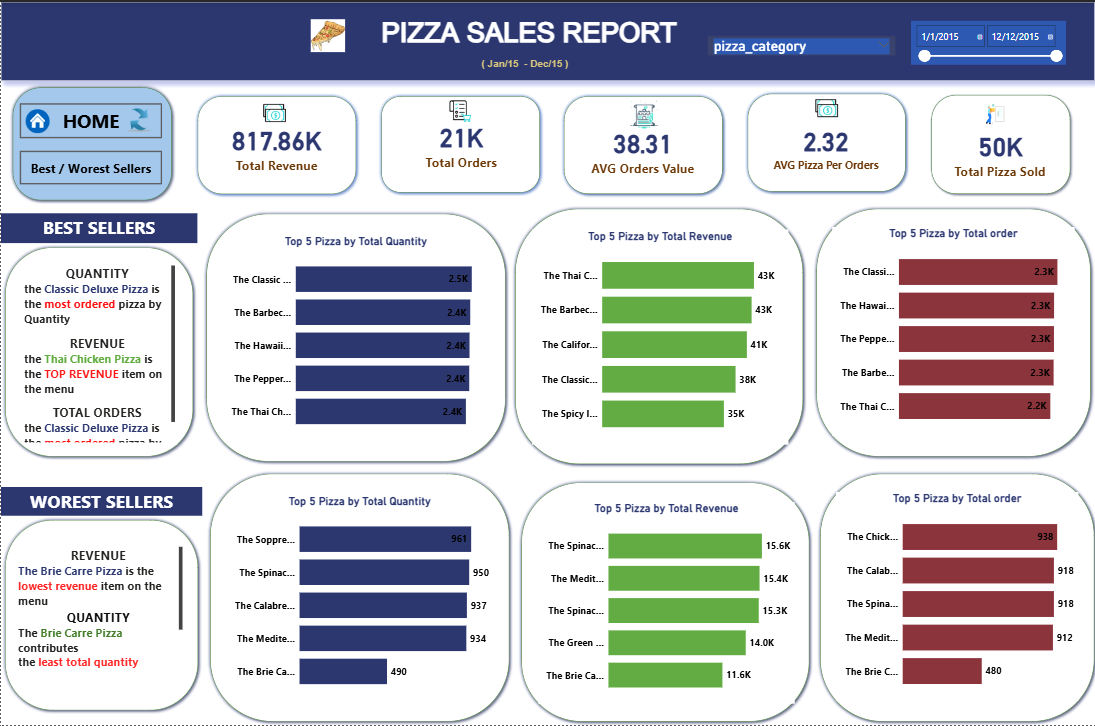

This screenshot's page, from the dashboard's own definition file:
{"tool":"powerbi","page":{"name":"Page 2","canvas":[2350,1550],"ordinal":1},"visuals":[{"type":"group","id":"g1","title":"Group 20","box":[16.1,174.1,358.8,259.8],"z":0,"group":"g9"},{"type":"group","id":"g2","title":"Group 19","box":[16.1,174.1,358.8,259.8],"z":0,"group":"g1"},{"type":"group","id":"g3","title":"Group 18","box":[16.1,174.1,358.8,259.8],"z":0,"group":"g2"},{"type":"shape","box":[16.1,174.1,358.8,259.8],"z":0,"group":"g3"},{"type":"shape","box":[1984.4,190.1,315.3,230],"z":0,"group":"g12"},{"type":"shape","box":[805,192.8,357.3,224.4],"z":0,"group":"g10"},{"type":"shape","box":[1198.1,192.8,357.9,227.3],"z":0,"group":"g13"},{"type":"shape","box":[0,1100.6,431.2,425.8],"z":0,"group":"g21"},{"type":"textbox","box":[0,0,2343.2,168.7],"z":1000},{"type":"shape","box":[1591.2,187.5,356.2,227.6],"z":1000,"group":"g11"},{"type":"card","fields":{"Values":["pizza_sales.Total Orders"]},"box":[839.4,214,290.9,176.7],"z":1000,"group":"g10"},{"type":"card","title":"AVG Orders Value","fields":{"Values":["pizza_sales.AVG Orders Value"]},"box":[1229,215.7,291.6,197.9],"z":1000,"group":"g13"},{"type":"image","box":[246.4,223.2,98.7,60.6],"z":1000,"group":"g9"},{"type":"image","box":[16.1,226.1,125.6,60.6],"z":1000,"group":"g1"},{"type":"actionButton","box":[40,318.4,305,72.2],"z":1000,"group":"g2"},{"type":"shape","box":[411.9,192.8,357.3,227.7],"z":1500,"group":"g7"},{"type":"slicer","title":"pizza_category","fields":{"Values":["pizza_sales.pizza_category"]},"box":[1513.1,72.3,404.4,42.8],"z":2000},{"type":"card","fields":{"Values":["pizza_sales.Total Revenue"]},"box":[446.3,229.5,286.9,157.2],"z":2000,"group":"g7"},{"type":"image","box":[658.8,32.1,83,80.3],"z":3000},{"type":"card","fields":{"Values":["pizza_sales.AVG Pizza Per Orders"]},"box":[1644.1,232.7,246.4,150],"z":3000,"group":"g11"},{"type":"slicer","fields":{"Values":["pizza_sales.order_date"]},"box":[1949.6,40.2,332.1,93.7],"z":4000},{"type":"card","fields":{"Values":["pizza_sales.Total Pizza Sold"]},"box":[2022.5,222.2,237.4,197.8],"z":4000,"group":"g12"},{"type":"group","id":"g4","title":"Group 7","box":[411.9,192.8,356.2,227.6],"z":5000},{"type":"group","id":"g5","title":"Group 9","box":[805,192.8,356.2,227.6],"z":6000},{"type":"group","id":"g6","title":"Group 10","box":[1984.4,190.1,316,230.3],"z":7000},{"type":"group","id":"g7","title":"Group 5","box":[411.9,192.8,356.4,227.4],"z":8000,"group":"g4"},{"type":"group","id":"g8","title":"Group 1","box":[1198.1,192.8,356.2,227.6],"z":8000},{"type":"image","box":[1733.1,198.2,72.3,58.9],"z":8000,"group":"g11"},{"type":"group","id":"g9","title":"Group 21","box":[16.1,174.1,358.8,259.8],"z":9000},{"type":"group","id":"g10","title":"Group 4","box":[805,192.8,356.4,224.1],"z":9000,"group":"g5"},{"type":"group","id":"g11","title":"Group 6","box":[1591.2,187.5,356.2,227.6],"z":10000},{"type":"shape","box":[1093.7,434.3,634.7,565.1],"z":10000,"group":"g15"},{"type":"shape","box":[1738,434.3,605.2,549],"z":10000,"group":"g16"},{"type":"shape","box":[430.4,443.8,658.8,549],"z":10000,"group":"g18"},{"type":"shape","box":[439.2,1001.6,658.8,549],"z":10000,"group":"g17"},{"type":"shape","box":[1746,1001.6,605.2,549],"z":10000,"group":"g20"},{"type":"shape","box":[1106,1020.3,634.7,530.2],"z":10000,"group":"g19"},{"type":"group","id":"g12","title":"Group 2","box":[1984.4,190.1,316,230.3],"z":11000,"group":"g6"},{"type":"textbox","box":[0,452.6,420.4,64.3],"z":11000},{"type":"clusteredBarChart","title":"Top 5 Pizza by Total order","fields":{"Category":["pizza_sales.pizza_name"],"Y":["pizza_sales.Total Orders"]},"box":[1780.9,482.1,519.5,447.2],"z":11000,"group":"g16"},{"type":"clusteredBarChart","title":"Top 5 Pizza by Total Revenue","fields":{"Category":["pizza_sales.pizza_name"],"Y":["pizza_sales.Total Revenue"]},"box":[1138.2,487.4,549,460.6],"z":11000,"group":"g15"},{"type":"clusteredBarChart","title":"Top 5 Pizza by Total Quantity","fields":{"Category":["pizza_sales.pizza_name"],"Y":["pizza_sales.Total Pizza Sold"]},"box":[475.9,497.4,567.7,441.9],"z":11000,"group":"g18"},{"type":"clusteredBarChart","title":"Top 5 Pizza by Total order","fields":{"Category":["pizza_sales.pizza_name"],"Y":["pizza_sales.Total Orders"]},"box":[1788.9,1049.4,519.5,447.2],"z":11000,"group":"g20"},{"type":"clusteredBarChart","title":"Top 5 Pizza by Total Quantity","fields":{"Category":["pizza_sales.pizza_name"],"Y":["pizza_sales.Total Pizza Sold"]},"box":[484.7,1055.2,567.7,441.9],"z":11000,"group":"g17"},{"type":"clusteredBarChart","title":"Top 5 Pizza by Total Revenue","fields":{"Category":["pizza_sales.pizza_name"],"Y":["pizza_sales.Total Revenue"]},"box":[1150.5,1070.1,549,432.2],"z":11000,"group":"g19"},{"type":"group","id":"g13","title":"Group 3","box":[1198.1,192.8,357,227],"z":12000,"group":"g8"},{"type":"group","id":"g14","title":"Group 11","box":[0,516.8,420.4,466],"z":12000},{"type":"image","box":[555.2,206.7,58.5,62.5],"z":12002,"group":"g4"},{"type":"image","box":[1334.7,206.2,88.4,69.6],"z":12005,"group":"g8"},{"type":"image","box":[955.9,204.8,56.6,61.6],"z":12007,"group":"g5"},{"type":"image","box":[2074.7,211.8,107.2,56.9],"z":12009,"group":"g6"},{"type":"group","id":"g15","title":"Group 12","box":[1093.7,434.3,634.7,565.1],"z":13000},{"type":"shape","box":[0,516.8,420.4,466],"z":13000,"group":"g14"},{"type":"group","id":"g16","title":"Group 13","box":[1738,434.3,605.2,549],"z":14000},{"type":"textbox","box":[45.5,558.4,332.1,388.8],"z":14001,"group":"g14"},{"type":"group","id":"g17","title":"Group 8","box":[439.2,1001.6,658.8,549],"z":15000},{"type":"group","id":"g18","title":"Group 8","box":[430.4,443.8,658.8,549],"z":16000},{"type":"group","id":"g19","title":"Group 12","box":[1106,1020.3,634.7,530.2],"z":17000},{"type":"group","id":"g20","title":"Group 13","box":[1746,1001.6,605.2,549],"z":18000},{"type":"actionButton","box":[40,217.4,305,75],"z":18002,"group":"g3"},{"type":"textbox","box":[0,1039.1,431.2,61.6],"z":19000},{"type":"textbox","box":[32.1,1162.2,361.5,297.3],"z":20000,"group":"g21"},{"type":"group","id":"g21","title":"Group 14","box":[0,1100.6,431.2,425.8],"z":20001}]}

Visuals, with their boxes in screenshot pixels (x1, y1, x2, y2), scaled from the page's 2350x1550 canvas onto the 1095x726 screenshot:
"Group 20" group: [left=8, top=82, right=175, bottom=203]
"Group 19" group: [left=8, top=82, right=175, bottom=203]
"Group 18" group: [left=8, top=82, right=175, bottom=203]
shape: [left=8, top=82, right=175, bottom=203]
shape: [left=925, top=89, right=1072, bottom=197]
shape: [left=375, top=90, right=542, bottom=195]
shape: [left=558, top=90, right=725, bottom=197]
shape: [left=0, top=516, right=201, bottom=715]
textbox: [left=0, top=0, right=1092, bottom=79]
shape: [left=741, top=88, right=907, bottom=194]
card - pizza_sales.Total Orders: [left=391, top=100, right=527, bottom=183]
"AVG Orders Value" card: [left=573, top=101, right=709, bottom=194]
image: [left=115, top=105, right=161, bottom=133]
image: [left=8, top=106, right=66, bottom=134]
actionButton: [left=19, top=149, right=161, bottom=183]
shape: [left=192, top=90, right=358, bottom=197]
"pizza_category" slicer: [left=705, top=34, right=893, bottom=54]
card - pizza_sales.Total Revenue: [left=208, top=107, right=342, bottom=181]
image: [left=307, top=15, right=346, bottom=53]
card - pizza_sales.AVG Pizza Per Orders: [left=766, top=109, right=881, bottom=179]
slicer - pizza_sales.order_date: [left=908, top=19, right=1063, bottom=63]
card - pizza_sales.Total Pizza Sold: [left=942, top=104, right=1053, bottom=197]
"Group 7" group: [left=192, top=90, right=358, bottom=197]
"Group 9" group: [left=375, top=90, right=541, bottom=197]
"Group 10" group: [left=925, top=89, right=1072, bottom=197]
"Group 5" group: [left=192, top=90, right=358, bottom=197]
"Group 1" group: [left=558, top=90, right=724, bottom=197]
image: [left=808, top=93, right=841, bottom=120]
"Group 21" group: [left=8, top=82, right=175, bottom=203]
"Group 4" group: [left=375, top=90, right=541, bottom=195]
"Group 6" group: [left=741, top=88, right=907, bottom=194]
shape: [left=510, top=203, right=805, bottom=468]
shape: [left=810, top=203, right=1092, bottom=461]
shape: [left=201, top=208, right=508, bottom=465]
shape: [left=205, top=469, right=512, bottom=725]
shape: [left=814, top=469, right=1094, bottom=725]
shape: [left=515, top=478, right=811, bottom=725]
"Group 2" group: [left=925, top=89, right=1072, bottom=197]
textbox: [left=0, top=212, right=196, bottom=242]
"Top 5 Pizza by Total order" clusteredBarChart: [left=830, top=226, right=1072, bottom=435]
"Top 5 Pizza by Total Revenue" clusteredBarChart: [left=530, top=228, right=786, bottom=444]
"Top 5 Pizza by Total Quantity" clusteredBarChart: [left=222, top=233, right=486, bottom=440]
"Top 5 Pizza by Total order" clusteredBarChart: [left=834, top=492, right=1076, bottom=701]
"Top 5 Pizza by Total Quantity" clusteredBarChart: [left=226, top=494, right=490, bottom=701]
"Top 5 Pizza by Total Revenue" clusteredBarChart: [left=536, top=501, right=792, bottom=704]
"Group 3" group: [left=558, top=90, right=725, bottom=197]
"Group 11" group: [left=0, top=242, right=196, bottom=460]
image: [left=259, top=97, right=286, bottom=126]
image: [left=622, top=97, right=663, bottom=129]
image: [left=445, top=96, right=472, bottom=125]
image: [left=967, top=99, right=1017, bottom=126]
"Group 12" group: [left=510, top=203, right=805, bottom=468]
shape: [left=0, top=242, right=196, bottom=460]
"Group 13" group: [left=810, top=203, right=1092, bottom=461]
textbox: [left=21, top=262, right=176, bottom=444]
"Group 8" group: [left=205, top=469, right=512, bottom=725]
"Group 8" group: [left=201, top=208, right=508, bottom=465]
"Group 12" group: [left=515, top=478, right=811, bottom=725]
"Group 13" group: [left=814, top=469, right=1094, bottom=725]
actionButton: [left=19, top=102, right=161, bottom=137]
textbox: [left=0, top=487, right=201, bottom=516]
textbox: [left=15, top=544, right=183, bottom=684]
"Group 14" group: [left=0, top=516, right=201, bottom=715]
